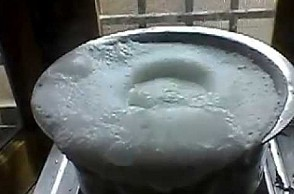Boiled: (27, 24, 288, 175)
